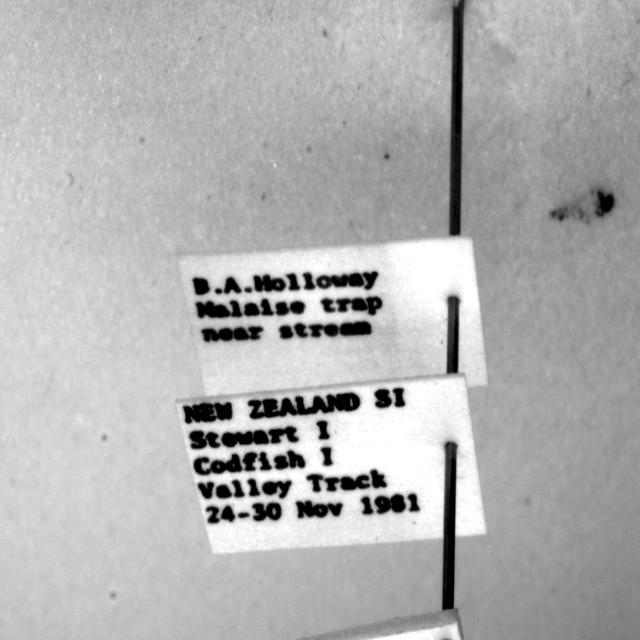typed_label: (176, 375, 486, 553), (179, 236, 488, 396)
